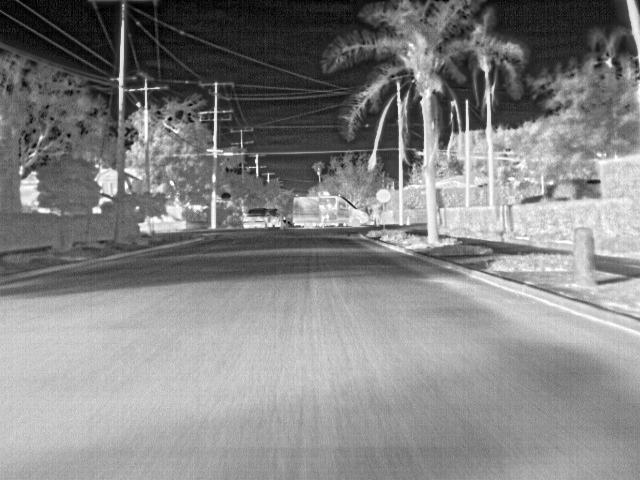car: (291, 191, 368, 231), (242, 207, 269, 231), (269, 208, 284, 228)
person: (317, 202, 328, 223)
